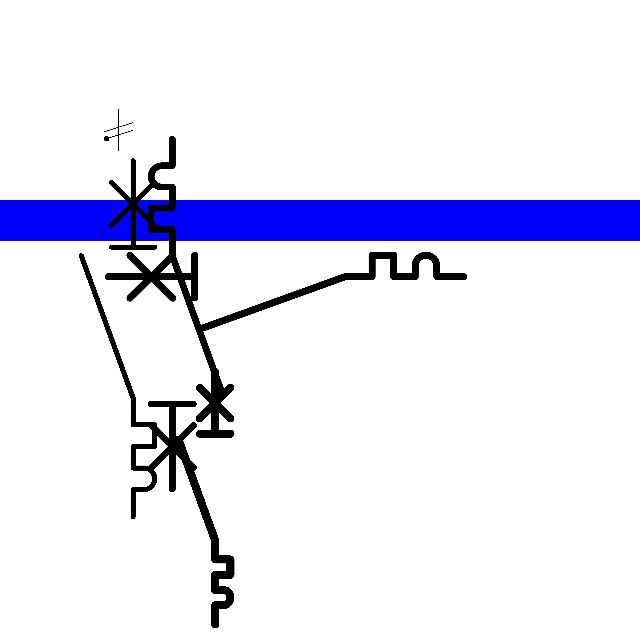interruptor_termomagnetico: (72, 151, 164, 526), (99, 246, 473, 337), (142, 130, 232, 498), (172, 366, 237, 631)
